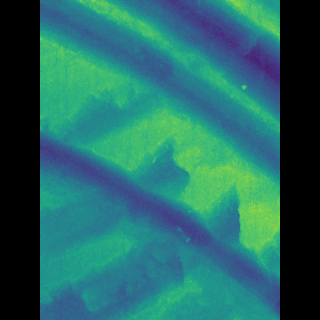Loch: (70, 125, 250, 320), (69, 0, 249, 191)
